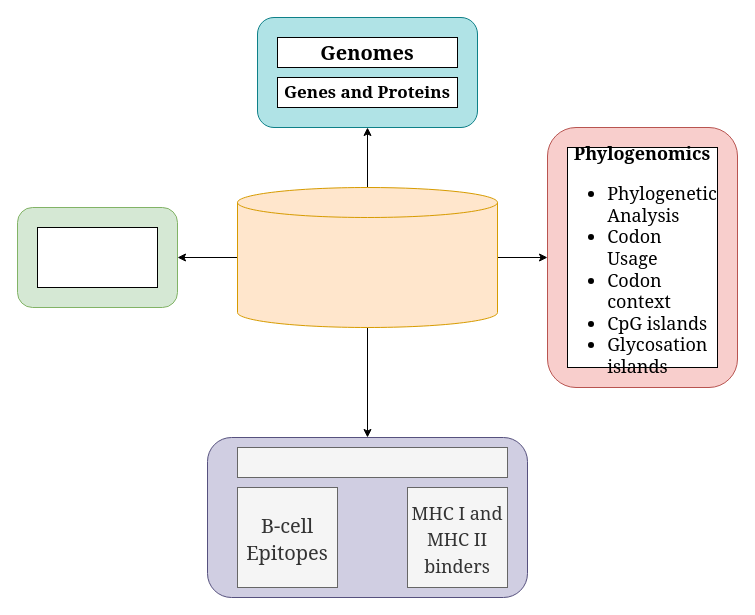
The diagram is 755 pixels wide and 615 high, and some of its shapes have lost their labels. Here are the shapes that lost their labels. From the top down, the centre of each, then its label:
At (x=97, y=257): "Diagnostic Primers".
At (x=367, y=257): "Alphapapillomavirus 9 Integrated Resource".
At (x=372, y=462): "Potential Therapeutics".
